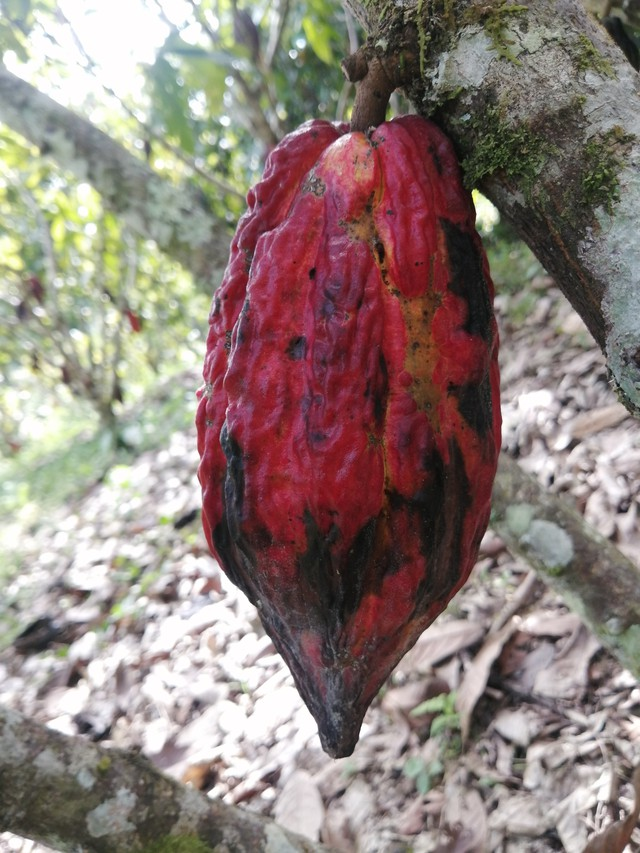moniliophthora roreri: (166, 98, 539, 777)
